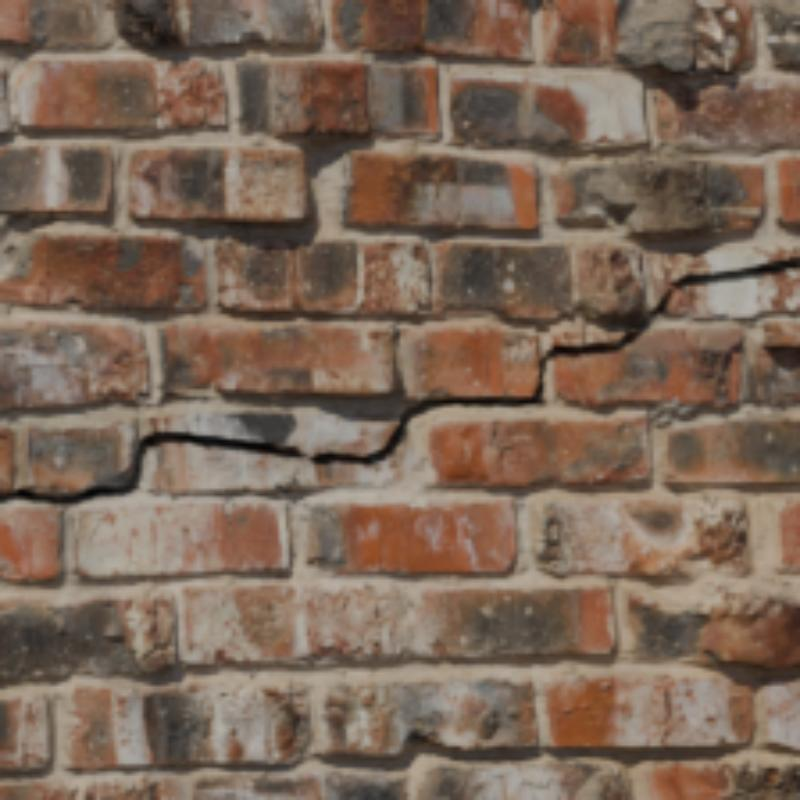pothole: (539, 257, 796, 371), (0, 432, 300, 504), (304, 389, 537, 461)
